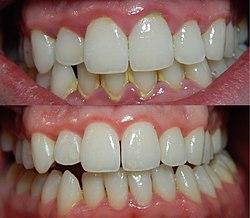Plaque: (125, 67, 166, 98), (99, 76, 131, 103), (63, 75, 92, 104)
